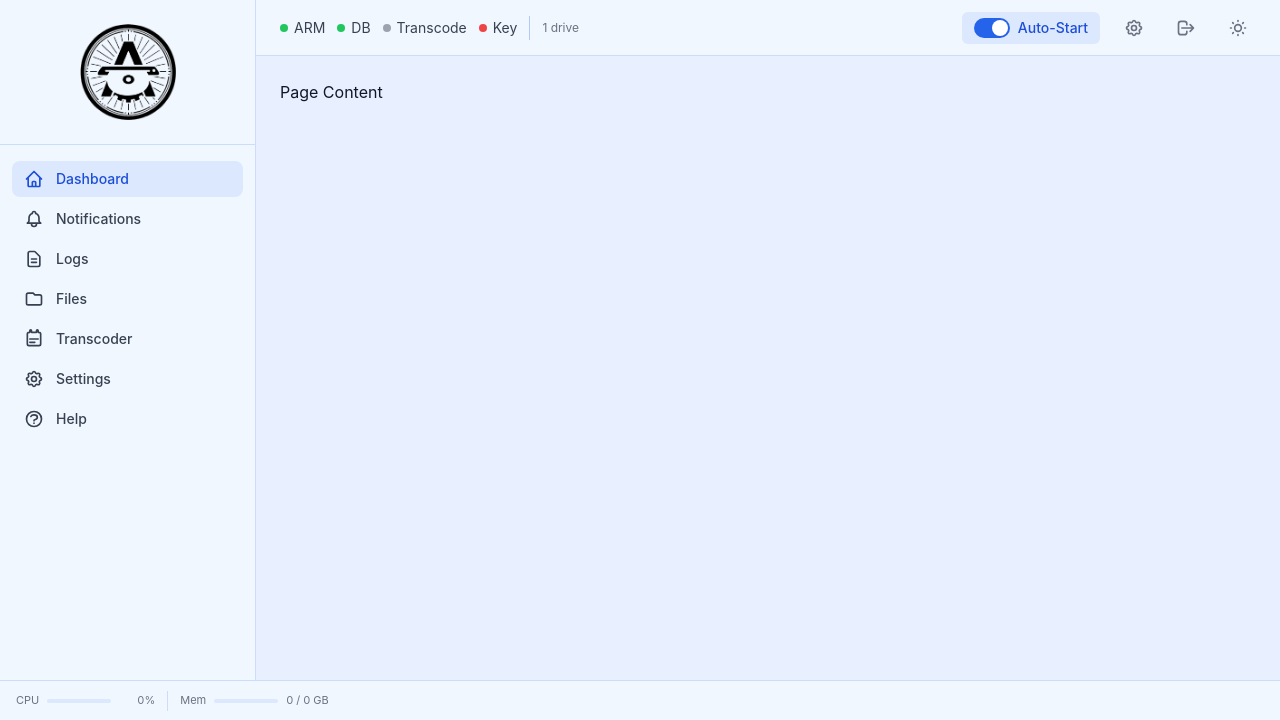
Test: Layout guest gating › quick-actions flyout offers Settings and Rip from ISO for admin
Click the button titled "Quick actions".
click(1134, 28)  # box [1116,10,1152,46]
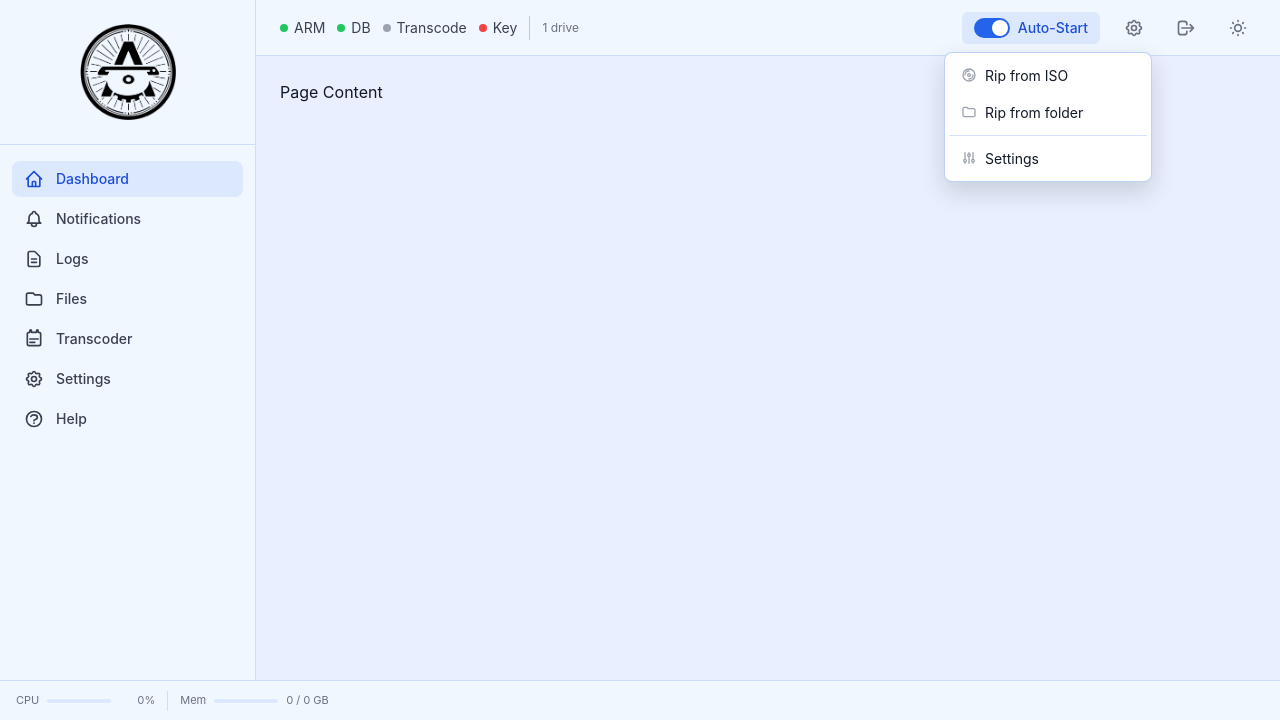
Check: the menu item "Settings" is shown, box [949,140,1147,176]
Check: the menu item "Rip from ISO" is shown, box [949,56,1147,94]
Check: the menu item "Rip from folder" is shown, box [949,94,1147,130]
